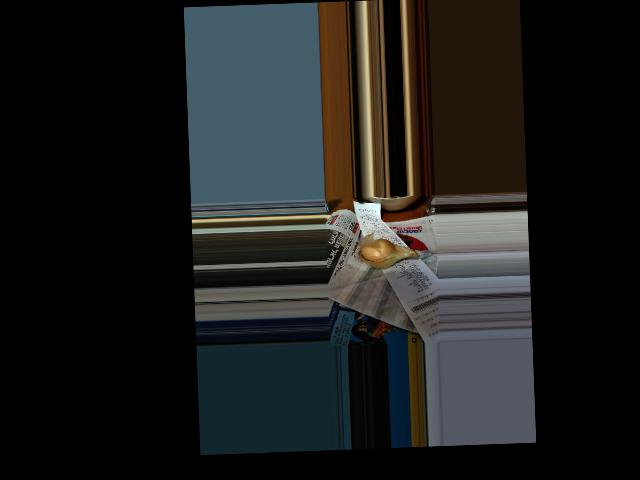onion: (360, 239, 416, 270)
